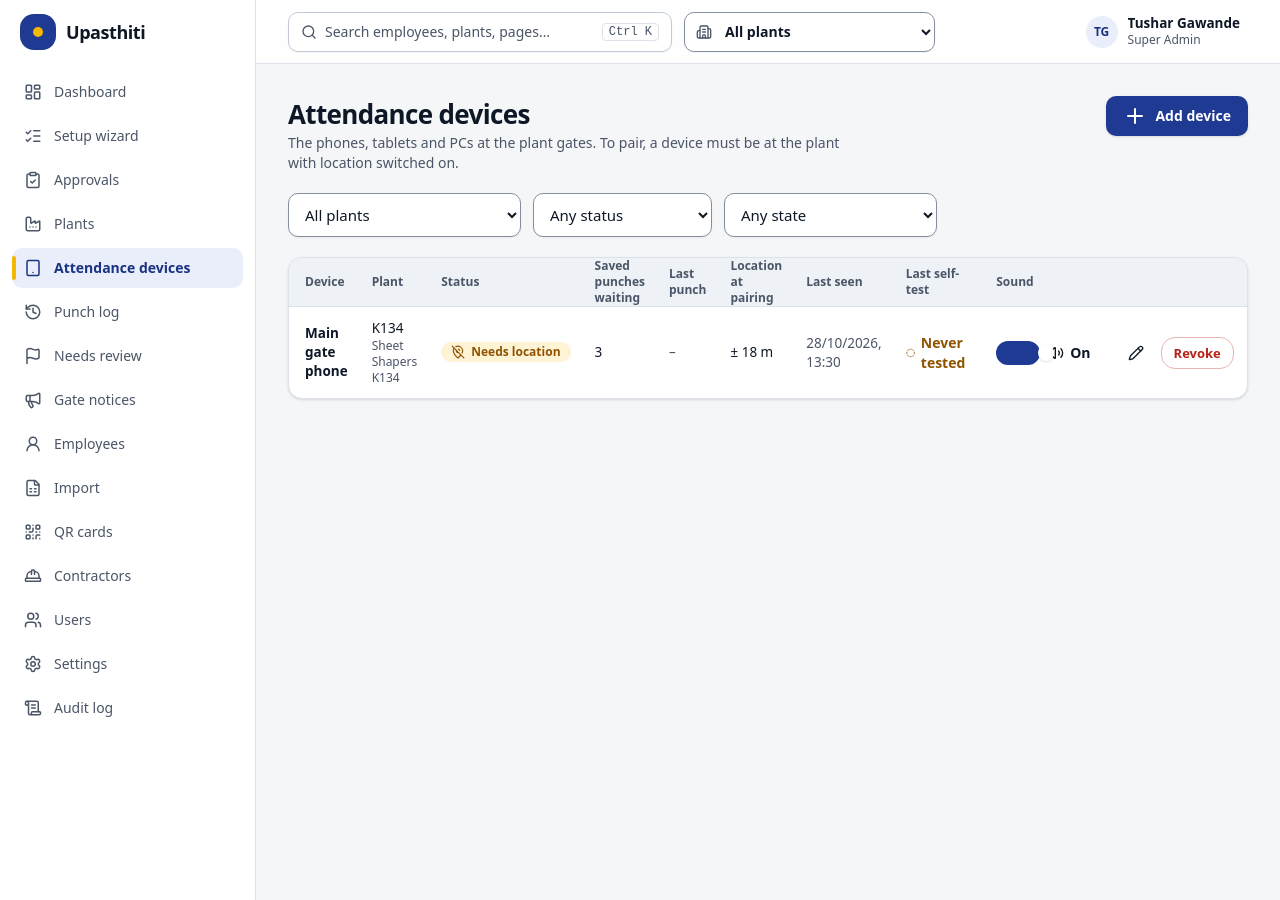
Test case: the drawer facts › shows the waiting punches with their time, a position outside the fence and 'No data'
What coordinates should you click on to do the following:
click the button "Main gate phone"
I would click on:
 (326, 353)
Its box is [305,324,348,382].
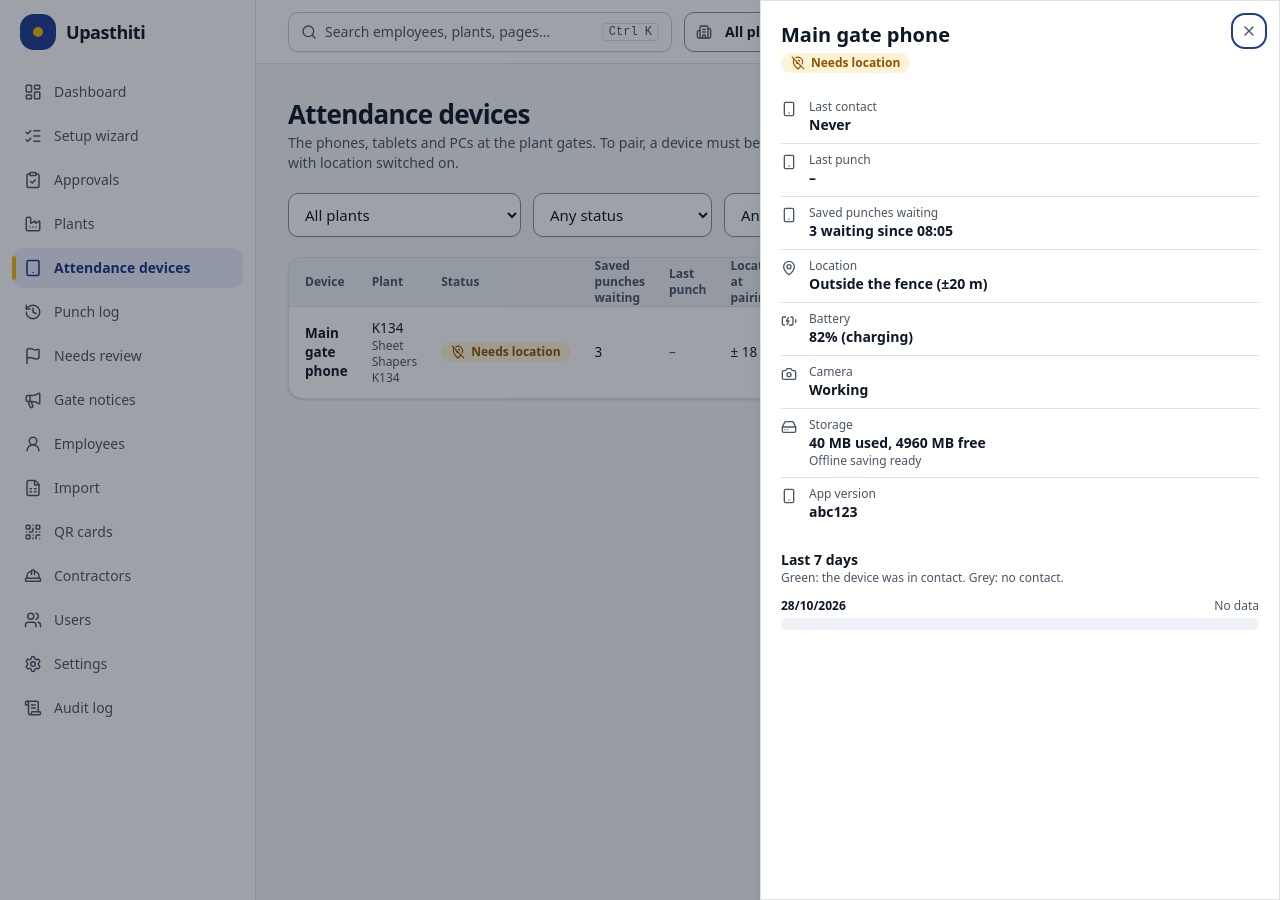
Expected: the text "3 waiting since 08:05" is shown, [809,221,953,241]
Expected: the text "Outside the fence (±20 m)" is shown, [809,274,988,294]
Expected: the text "Never" is shown, [809,115,851,134]
